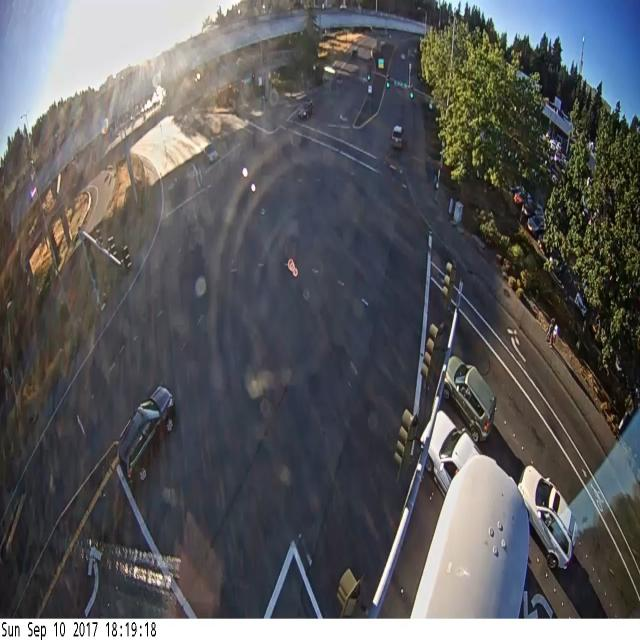car: (518, 466, 577, 569), (118, 386, 175, 480), (444, 356, 496, 442), (426, 411, 479, 495), (527, 215, 545, 239), (574, 291, 587, 317), (298, 100, 313, 119), (204, 144, 218, 164), (391, 126, 403, 149), (522, 202, 535, 218), (513, 190, 525, 205), (534, 204, 543, 217), (336, 76, 342, 85), (400, 52, 406, 61), (340, 4, 347, 10)
pedestrian: (546, 318, 555, 342), (550, 324, 558, 348)
